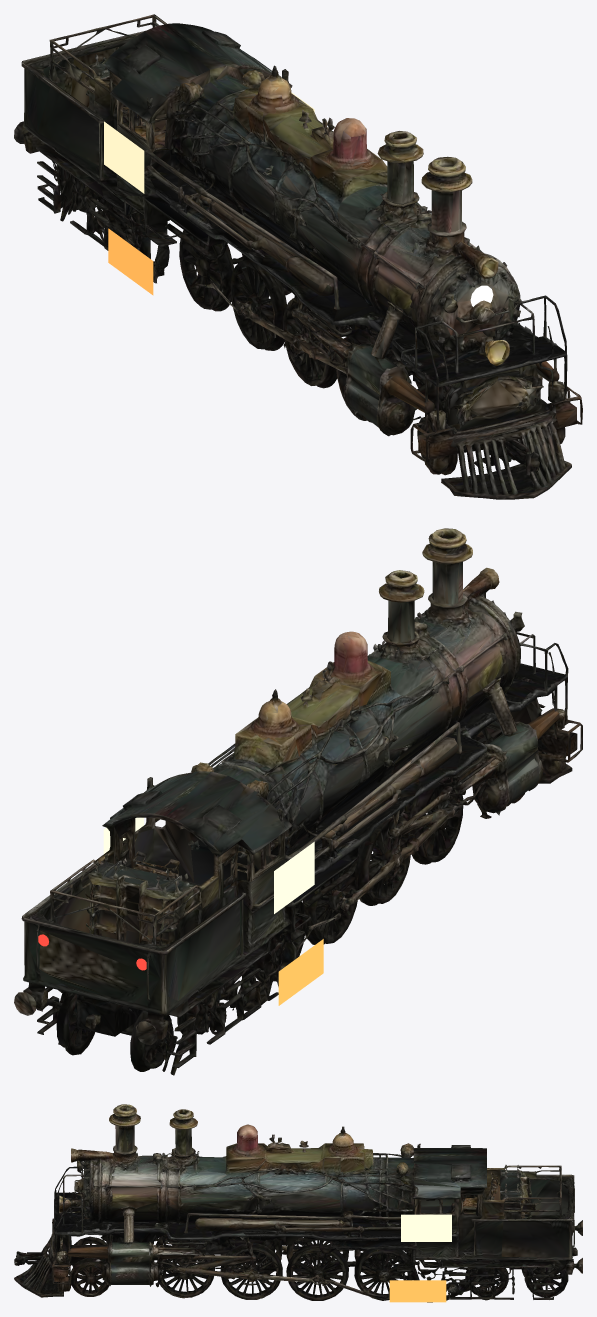
The model's file is m-steam2.glb.
The picture shows the model from 3 angles, top to bottom: view 1: azimuth 30°, elevation 25°; view 2: azimuth 150°, elevation 25°; view 3: azimuth 270°, elevation 25°; orthographic projection. The views are drawn at different scales.
Visible parts, largest first — view 1: Mesh_0, cabwin_L, firebox_L; view 2: Mesh_0, cabwin_L, firebox_L; view 3: Mesh_0, cabwin_R, firebox_R.
Part boxes in pixels (<box>): Mesh_0: <box>14,14,582,499</box>; cabwin_L: <box>104,121,144,193</box>; firebox_L: <box>108,228,153,295</box>; Mesh_0: <box>14,528,582,1075</box>; cabwin_L: <box>274,841,314,913</box>; firebox_L: <box>278,939,323,1005</box>; Mesh_0: <box>14,1104,582,1302</box>; cabwin_R: <box>401,1214,451,1241</box>; firebox_R: <box>389,1280,446,1302</box>.
Size of the model in its own units: 0.415 by 0.6712 by 1.9.
5 materials, 1 textured.
